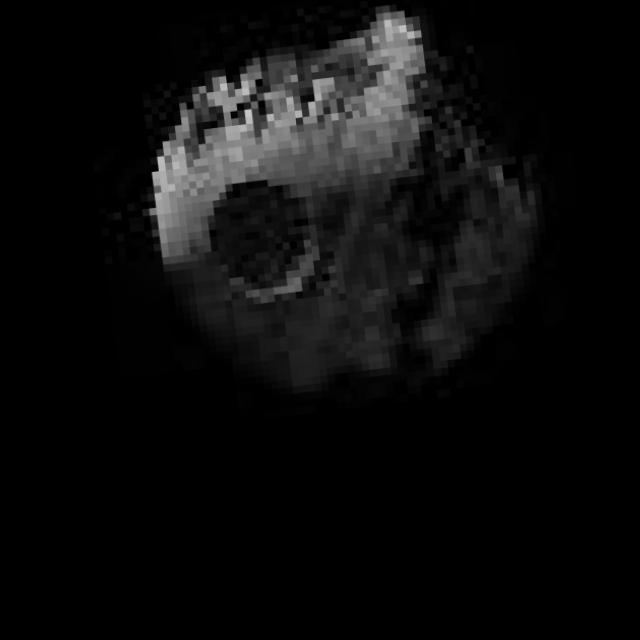Death Star: (84, 0, 571, 433)
